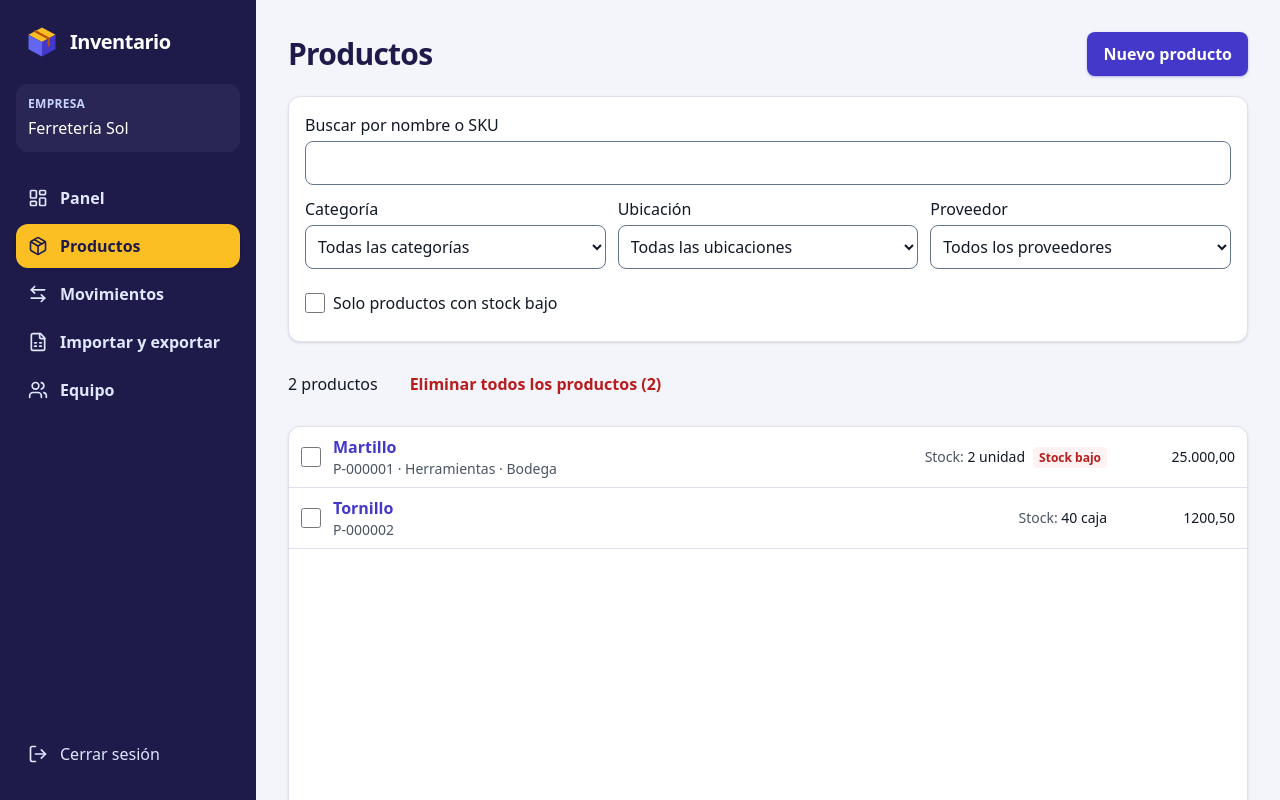
Test: Productos › para eliminar todos pide escribir ELIMINAR
The width and height of the screenshot is (1280, 800).
Click the button "Eliminar todos los productos (2)".
click(536, 384)  # box [394, 362, 677, 406]
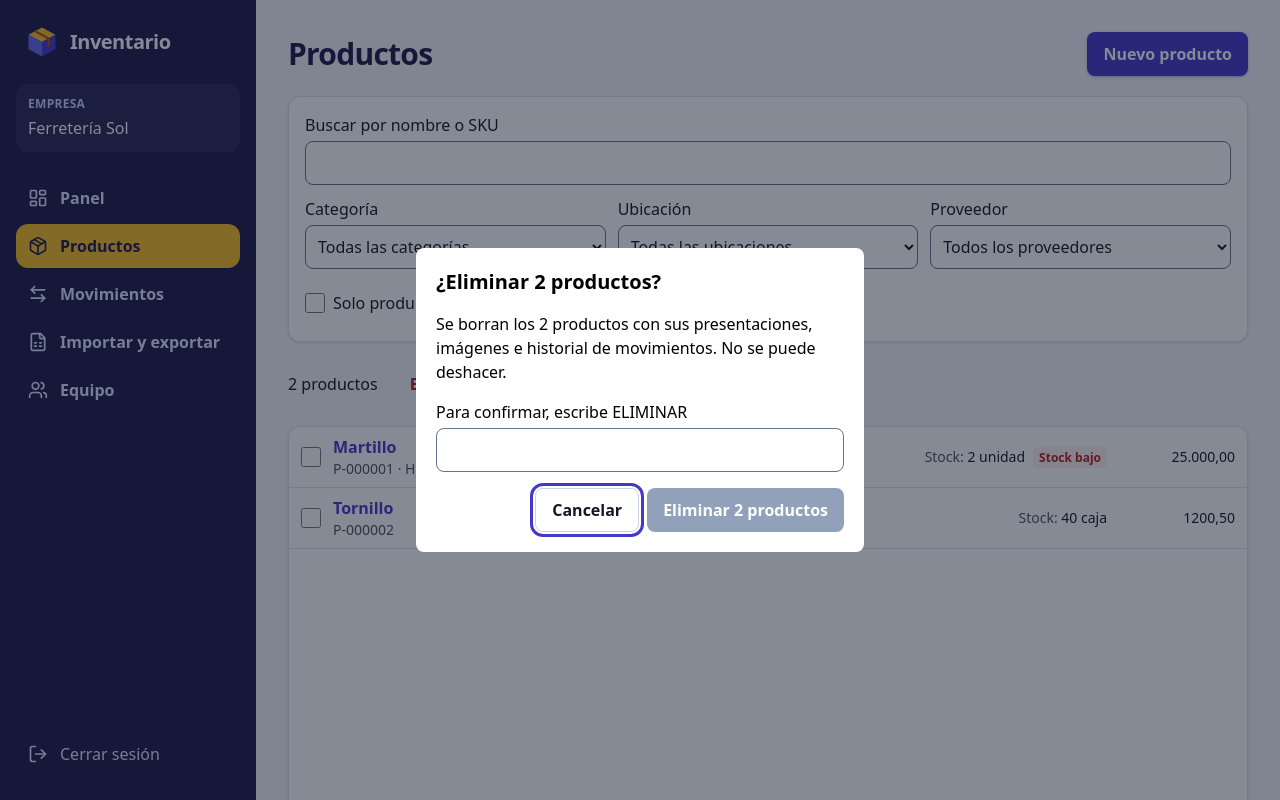
Now the button "Eliminar 2 productos" is disabled, box [647, 488, 844, 532]
Type "eliminar" into the field labelled "Para confirmar, escribe ELIMINAR".
click(640, 450); type("eliminar")  # box [436, 428, 844, 472]
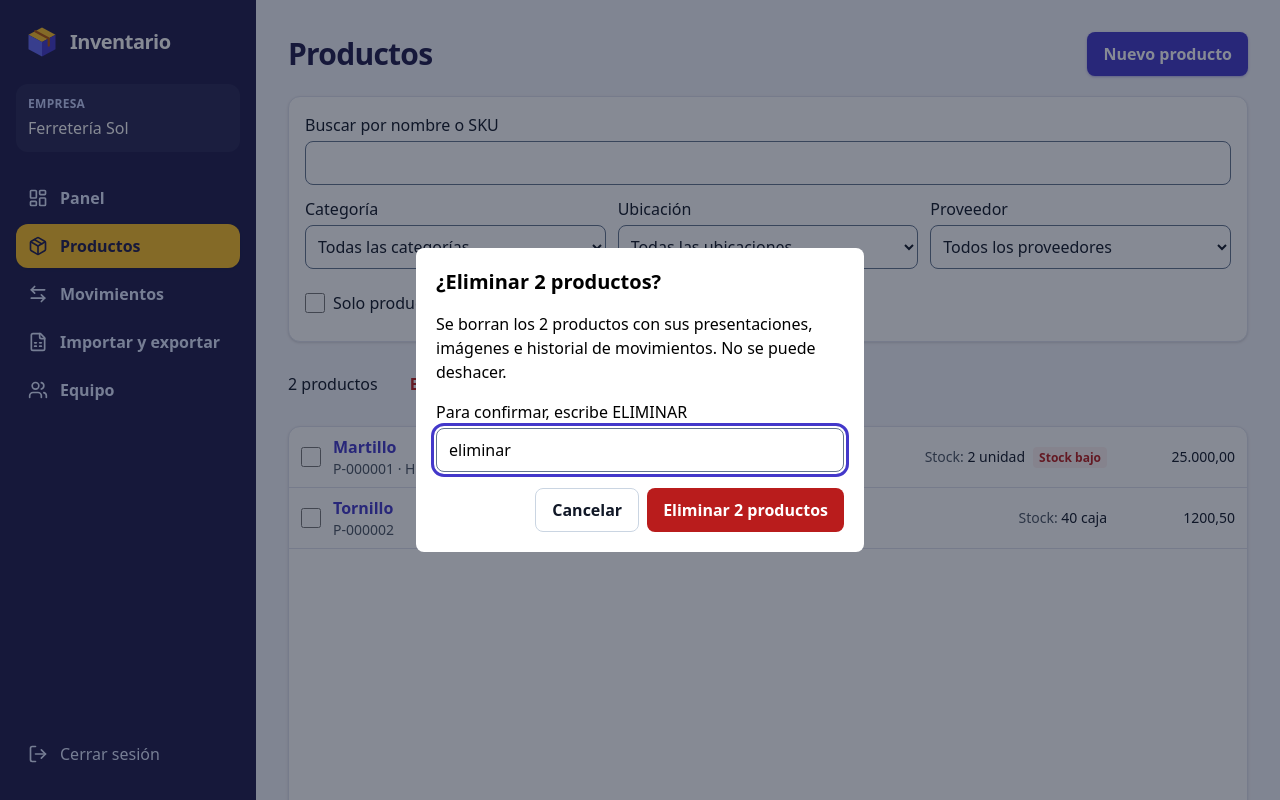
Click the button "Eliminar 2 productos".
click(746, 510)  # box [647, 488, 844, 532]
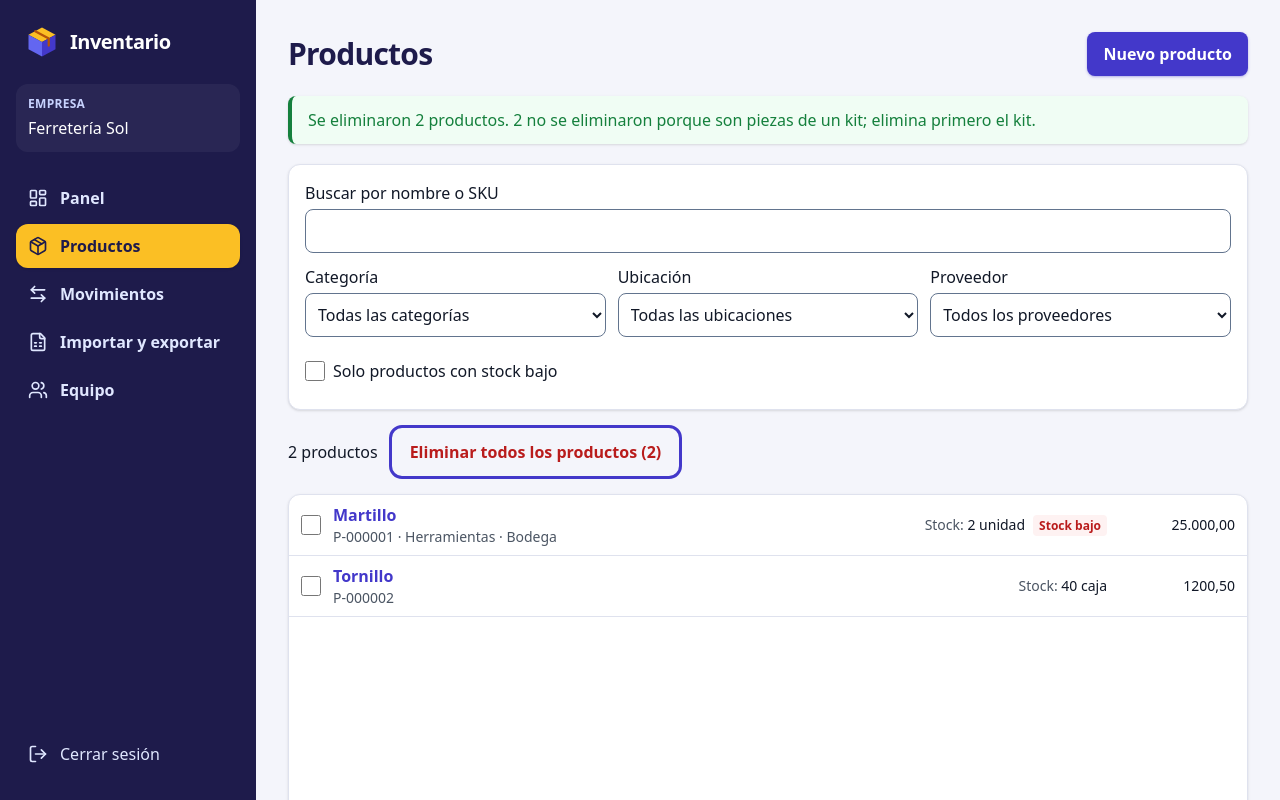
Now the text "Se eliminaron 2 productos. 2 no se eliminaron porque son piezas de un kit; elimina primero el kit." is shown, box [308, 109, 1036, 131]
